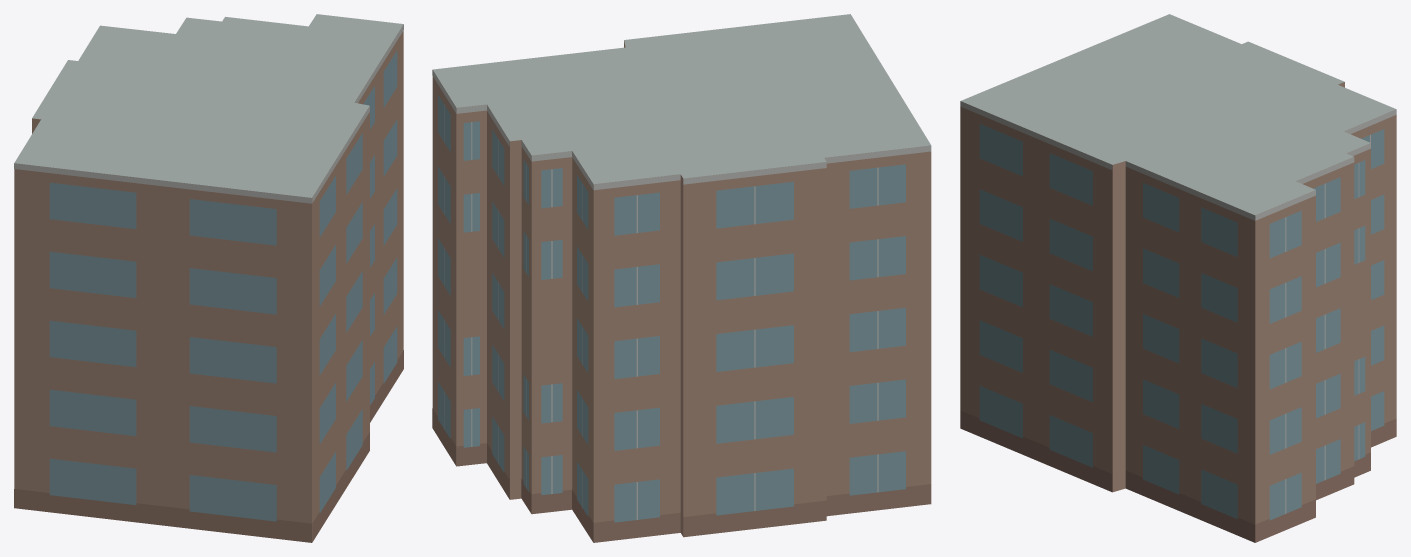
File: survey-upis-32981713.glb
3 views of the same model, side by side, from view 1: azimuth 30°, elevation 25°; view 2: azimuth 150°, elevation 25°; view 3: azimuth 270°, elevation 25° (orthographic). The views are drawn at different scales.
Parts seen in each view (by area): view 1: survey-upis-32981713.tmp; view 2: survey-upis-32981713.tmp; view 3: survey-upis-32981713.tmp.
Boxes of the visible parts, bbox=[...] form: survey-upis-32981713.tmp: bbox=[14, 14, 403, 542]; survey-upis-32981713.tmp: bbox=[432, 14, 931, 542]; survey-upis-32981713.tmp: bbox=[960, 14, 1396, 542].
Size of the model in its own units: 19.2 by 14.55 by 17.57.
